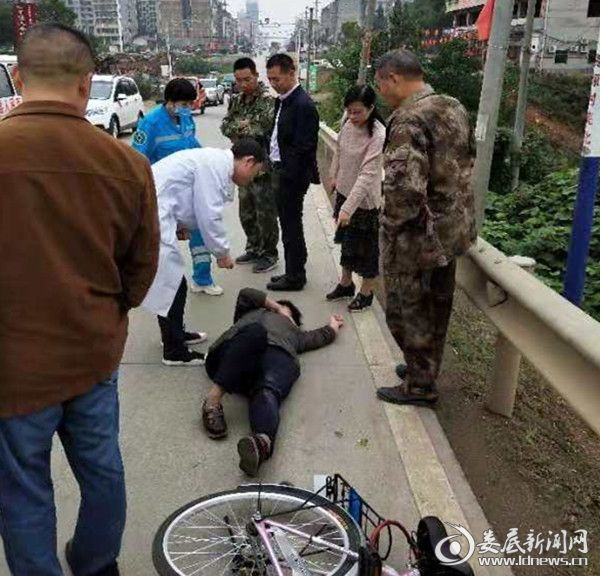falling: (192, 259, 352, 487)
